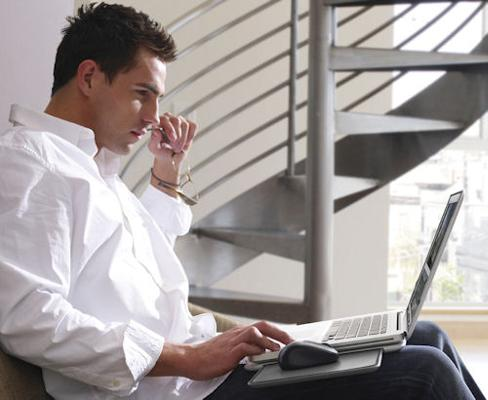person: (1, 5, 488, 400)
